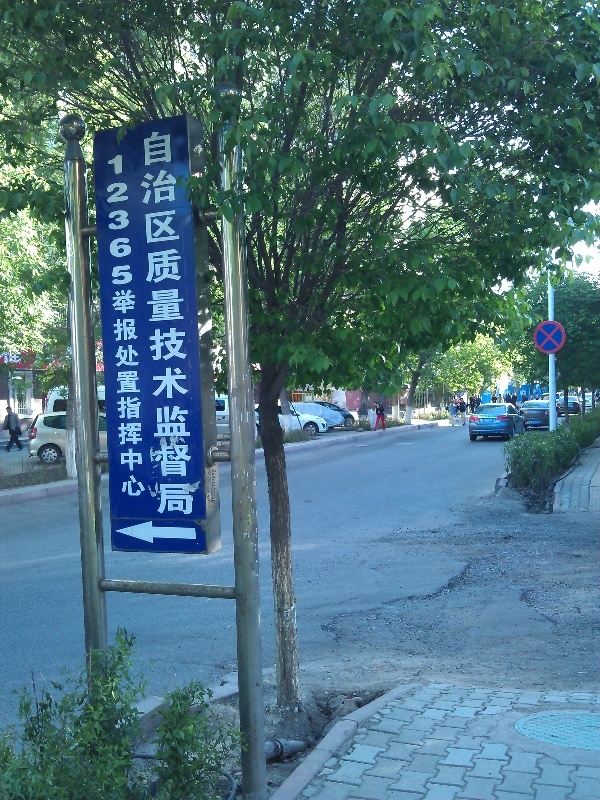text: (145, 129, 160, 518), (161, 129, 176, 518), (177, 129, 192, 518), (113, 151, 128, 501), (129, 151, 144, 501), (101, 151, 112, 501), (138, 129, 144, 518), (193, 129, 197, 518), (145, 151, 147, 501), (213, 470, 224, 502), (1, 350, 16, 364), (209, 469, 212, 502), (17, 350, 22, 364), (530, 421, 544, 424), (483, 419, 496, 422)
